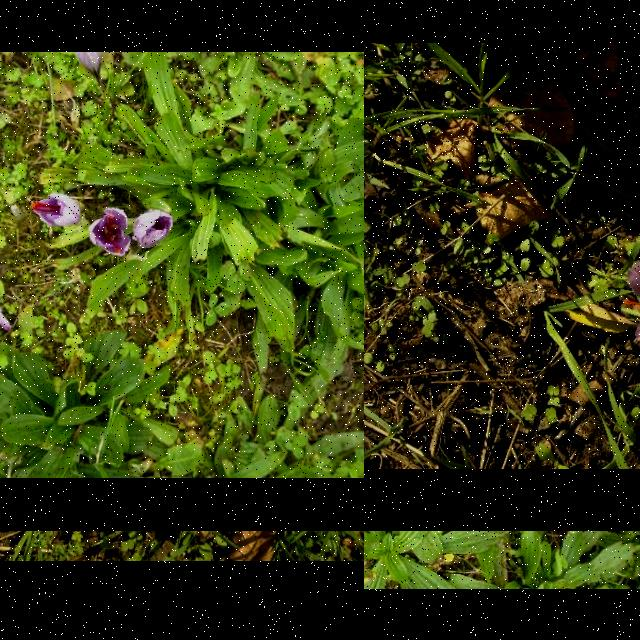flower: (90, 209, 132, 257), (28, 194, 82, 228), (132, 210, 172, 250)
